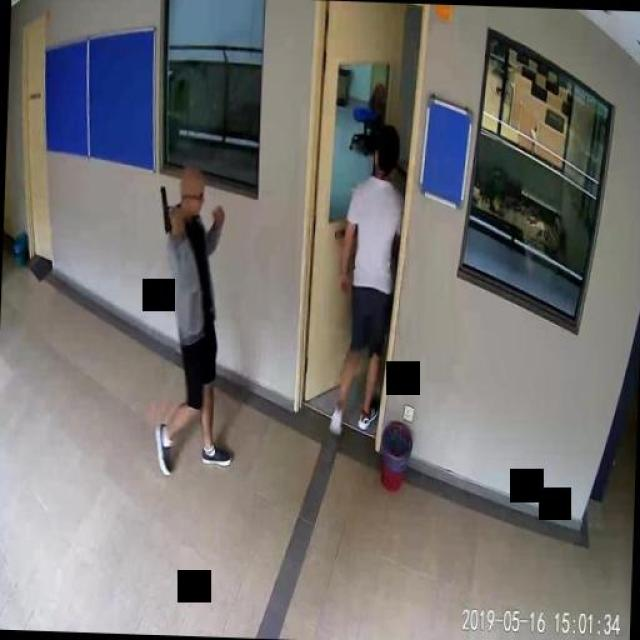gun: (158, 182, 182, 232)
